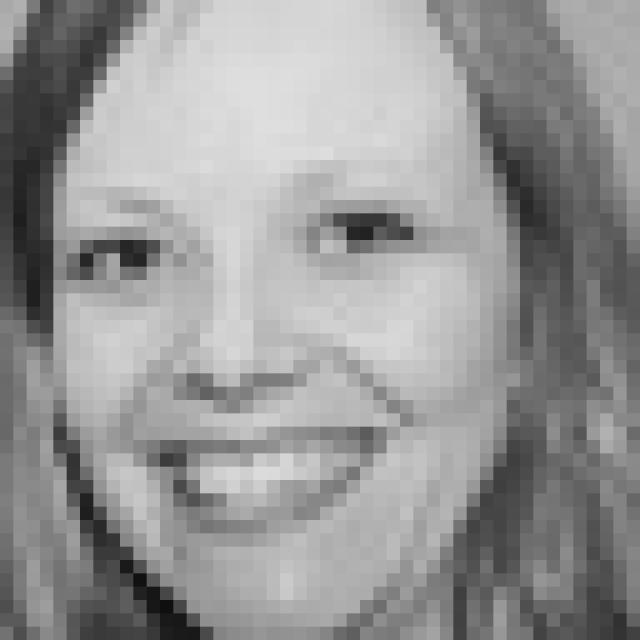happy: (62, 160, 466, 547)
